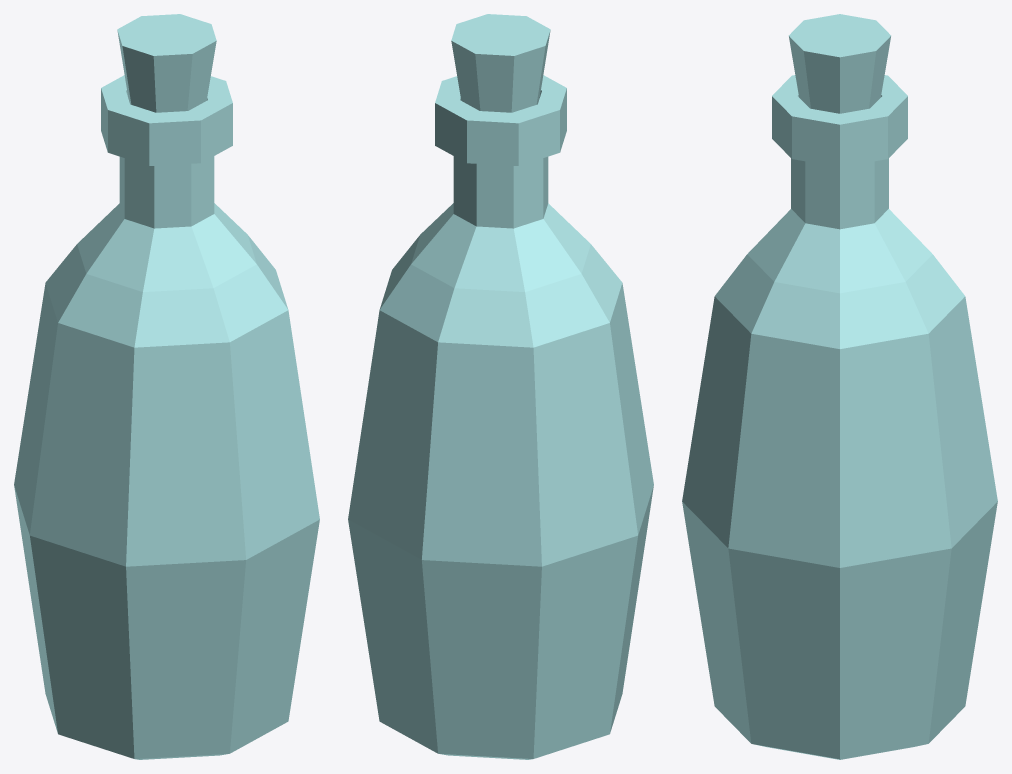
Rendered from bottle_interactable.fbx.
3 views of the same model, side by side, from view 1: azimuth 30°, elevation 25°; view 2: azimuth 150°, elevation 25°; view 3: azimuth 270°, elevation 25° (orthographic).
Visible parts, largest first — view 1: bottle_interactable; view 2: bottle_interactable; view 3: bottle_interactable.
Boxes of the visible parts, bbox=[...] form: bottle_interactable: bbox=[14, 14, 319, 759]; bottle_interactable: bbox=[348, 14, 653, 759]; bottle_interactable: bbox=[682, 14, 997, 759].
Size of the model in its own units: 53.79 by 128 by 53.79.
